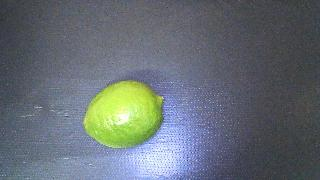EXPORTACION: (83, 80, 163, 148)
